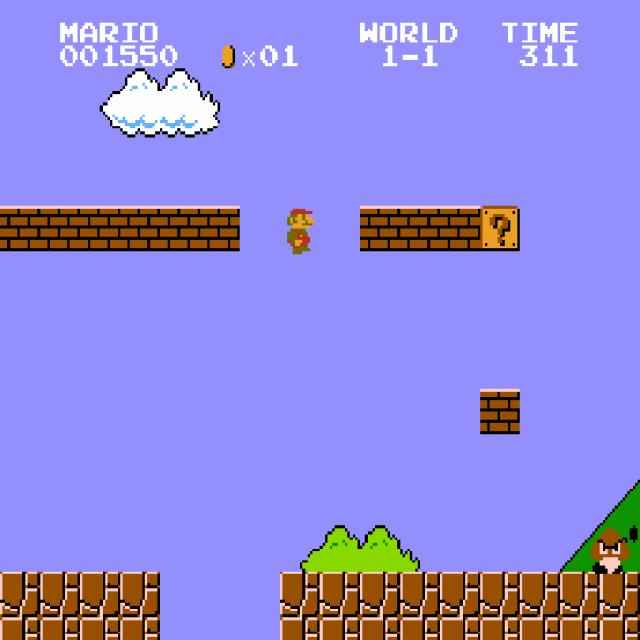brick_block: (0, 205, 40, 251), (40, 206, 80, 251), (80, 206, 120, 251), (120, 206, 160, 251), (160, 206, 200, 251), (200, 206, 240, 251), (360, 206, 400, 251), (400, 206, 440, 251), (440, 206, 480, 251), (480, 389, 520, 434)
goomba: (588, 526, 630, 574)
little_mario: (277, 206, 320, 254)
mystery_block: (480, 206, 520, 251)
undestructible_block: (599, 571, 640, 617), (0, 571, 40, 617), (40, 572, 80, 617), (80, 572, 120, 617), (120, 572, 160, 617), (280, 572, 320, 617), (320, 572, 360, 617), (360, 572, 400, 617), (400, 572, 440, 617), (440, 572, 480, 617), (480, 572, 520, 617), (520, 572, 560, 617), (560, 572, 600, 617), (40, 617, 80, 640), (80, 617, 120, 640), (120, 617, 160, 640), (280, 617, 320, 640), (320, 617, 360, 640), (360, 617, 400, 640), (400, 617, 440, 640), (440, 617, 480, 640), (480, 617, 520, 640), (520, 617, 560, 640), (560, 617, 600, 640), (599, 617, 640, 639), (0, 617, 40, 639)
